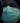with_mask: (1, 1, 20, 23)
